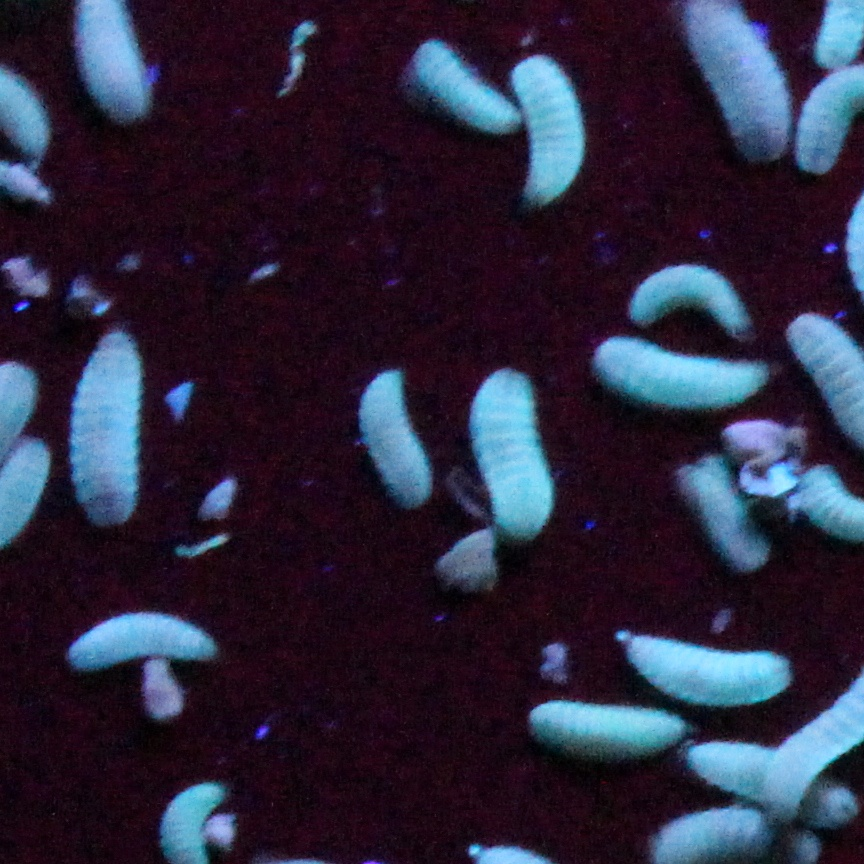larve: (469, 361, 554, 542), (77, 328, 148, 532), (593, 338, 769, 412), (358, 363, 438, 514), (683, 744, 854, 814), (518, 61, 589, 212), (71, 610, 224, 679), (636, 644, 795, 708), (679, 449, 761, 571), (636, 259, 761, 332), (526, 698, 681, 755), (420, 47, 514, 132)
